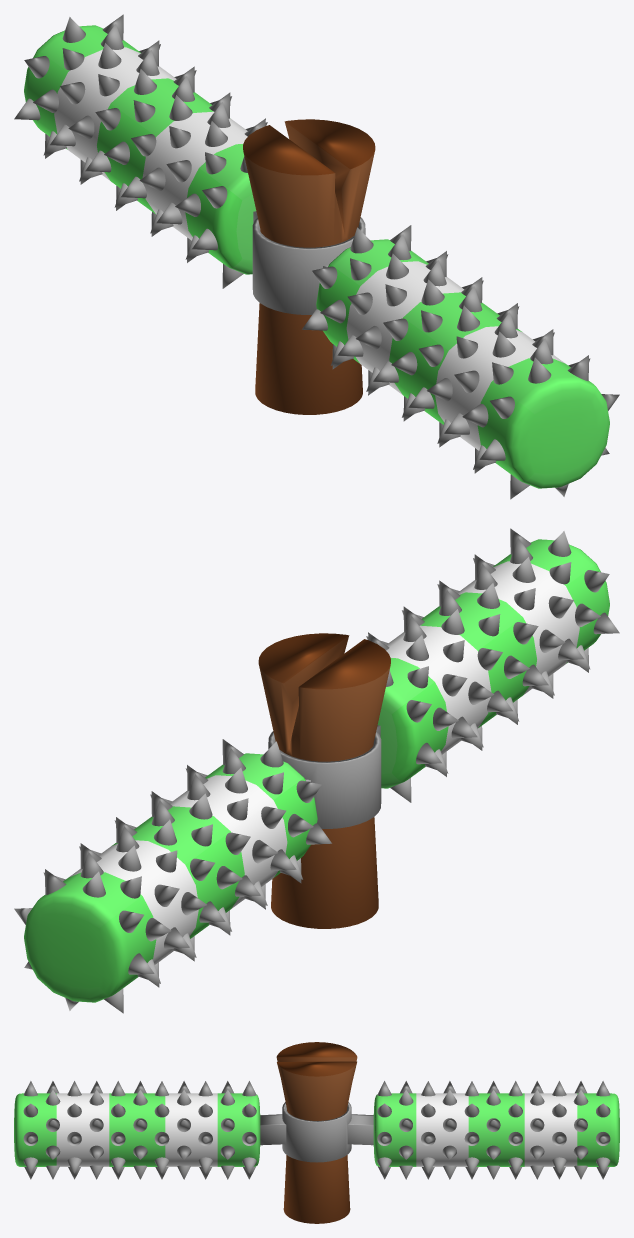
Rendered from trapcirclespikedoublegreen.fbx.
The picture shows the model from 3 angles, top to bottom: view 1: azimuth 30°, elevation 25°; view 2: azimuth 150°, elevation 25°; view 3: azimuth 270°, elevation 25°; orthographic projection. The views are drawn at different scales.
Visible parts, largest first — view 1: Cylinder.051, Cylinder.050; view 2: Cylinder.051, Cylinder.050; view 3: Cylinder.051, Cylinder.050.
Boxes of the visible parts, x1,y1,x2,y2 form: Cylinder.051: (14,14,619,499); Cylinder.050: (243,119,375,414); Cylinder.051: (14,528,619,1013); Cylinder.050: (258,633,390,928); Cylinder.051: (14,1081,619,1179); Cylinder.050: (276,1042,357,1223).
Size of the model in its own units: 13.73 by 22.84 by 83.33.
Materials: 1 (1 with a texture image).
